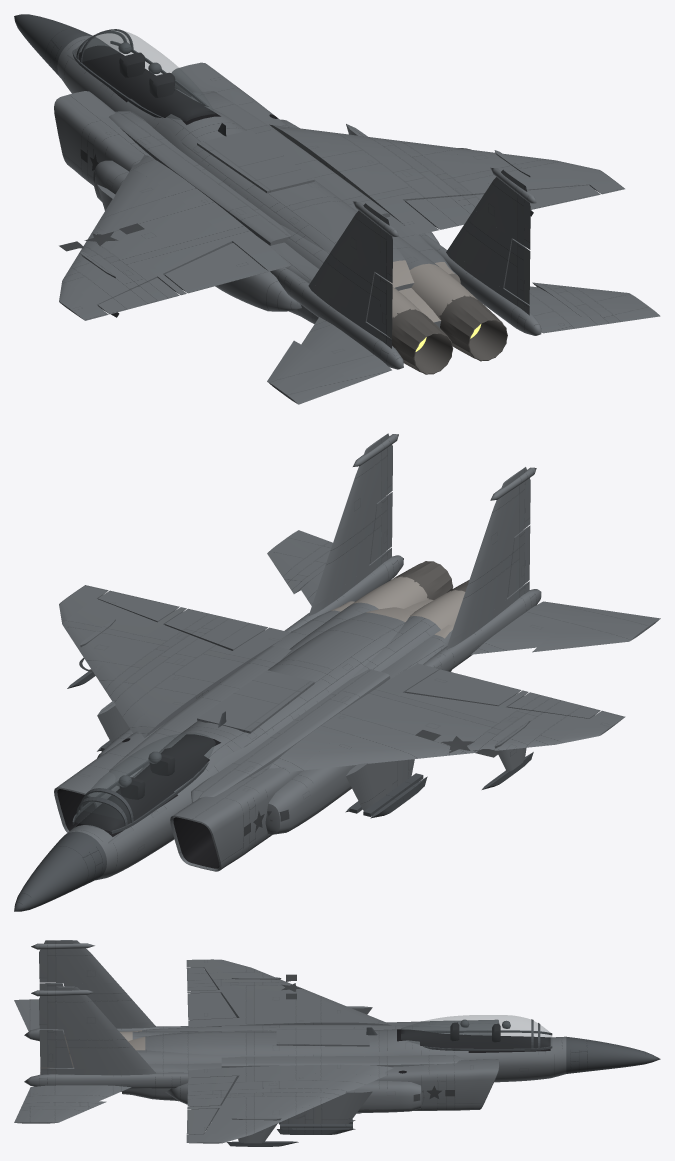
3 renders of one model, top to bottom at view 1: azimuth 30°, elevation 25°; view 2: azimuth 150°, elevation 25°; view 3: azimuth 270°, elevation 25°, orthographic. The views are drawn at different scales.
Parts seen in each view (by area): view 1: body, canopy, elevator_L, elevator_R, airbrake, flap_L, flap_R, aileron_L, rudder_L, rudder_R, aileron_R; view 2: body, canopy, elevator_L, airbrake, elevator_R, flap_L, flap_R, aileron_L, aileron_R, rudder_R, rudder_L; view 3: body, canopy, elevator_R, airbrake, flap_R, flap_L, rudder_R, aileron_R, elevator_L, aileron_L.
Boxes of the visible parts, <box> form: body: <box>14,14,624,374</box>; canopy: <box>79,30,215,121</box>; elevator_L: <box>267,317,391,404</box>; elevator_R: <box>525,282,660,333</box>; airbrake: <box>197,130,314,193</box>; flap_L: <box>164,243,267,293</box>; flap_R: <box>405,194,483,229</box>; aileron_L: <box>98,277,179,314</box>; rudder_L: <box>367,272,392,337</box>; rudder_R: <box>504,239,530,304</box>; aileron_R: <box>527,185,600,209</box>; body: <box>14,433,625,911</box>; canopy: <box>81,732,215,825</box>; elevator_L: <box>471,601,660,654</box>; airbrake: <box>197,670,314,733</box>; elevator_R: <box>267,530,332,605</box>; flap_L: <box>405,669,521,706</box>; flap_R: <box>164,608,267,650</box>; aileron_L: <box>508,692,600,718</box>; aileron_R: <box>98,590,179,622</box>; rudder_R: <box>369,492,392,563</box>; rudder_L: <box>507,525,530,597</box>; body: <box>24,940,660,1146</box>; canopy: <box>401,1015,532,1050</box>; elevator_R: <box>14,1085,131,1123</box>; airbrake: <box>276,1027,369,1046</box>; flap_R: <box>187,1076,236,1106</box>; flap_L: <box>187,992,236,1020</box>; rudder_R: <box>39,1029,72,1067</box>; aileron_R: <box>186,1108,218,1134</box>; elevator_L: <box>14,999,39,1031</box>; aileron_L: <box>186,967,217,991</box>.
Size of the model in its own units: 13.04 by 4.96 by 19.47.
Materials: 8 (2 with a texture image).
